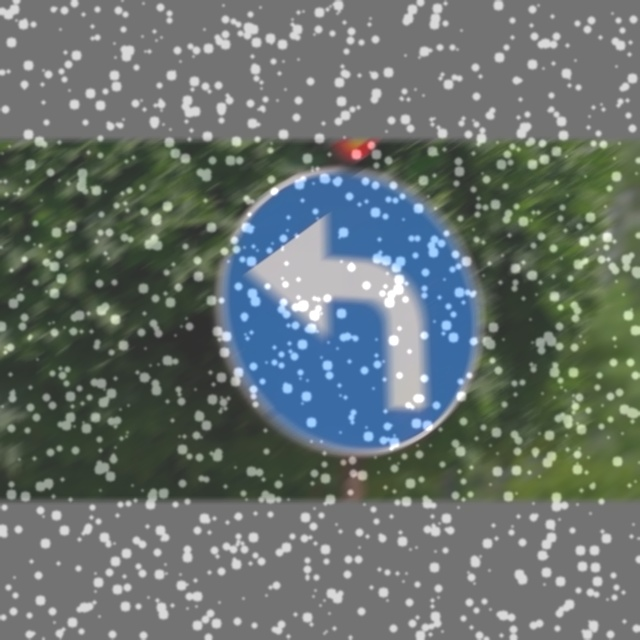Compulsory_Turn_Left_Ahead: (216, 168, 479, 450)
